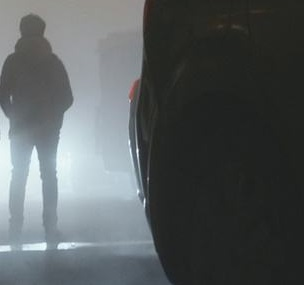person: (2, 12, 69, 249)
